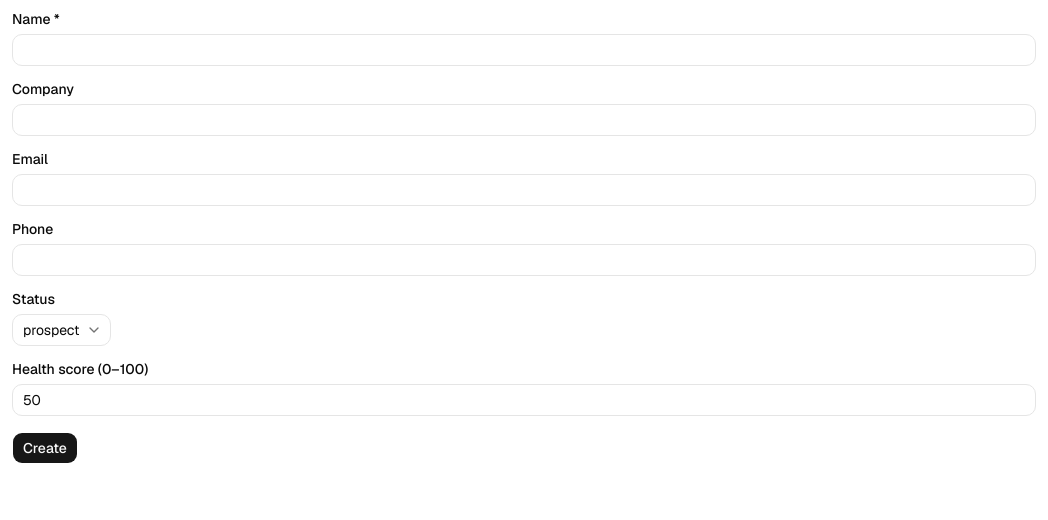
CustomerForm validation › rejects an invalid email
Type "Acme" into the field labelled "Name *". click: (524,50)
box: x1=12 y1=34 x2=1036 y2=66
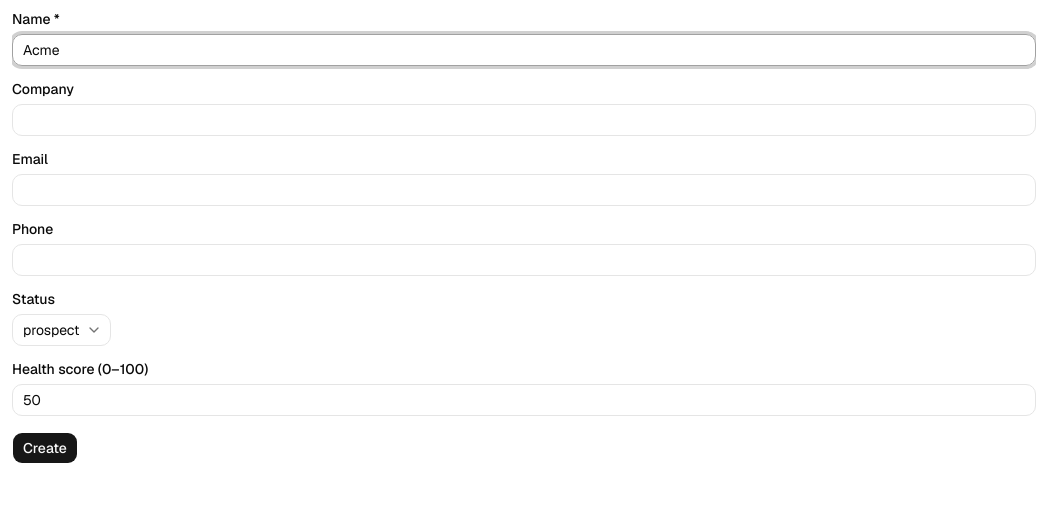
Type "not-an-email" into the field labelled "Email". click: (524,190)
box: x1=12 y1=174 x2=1036 y2=206
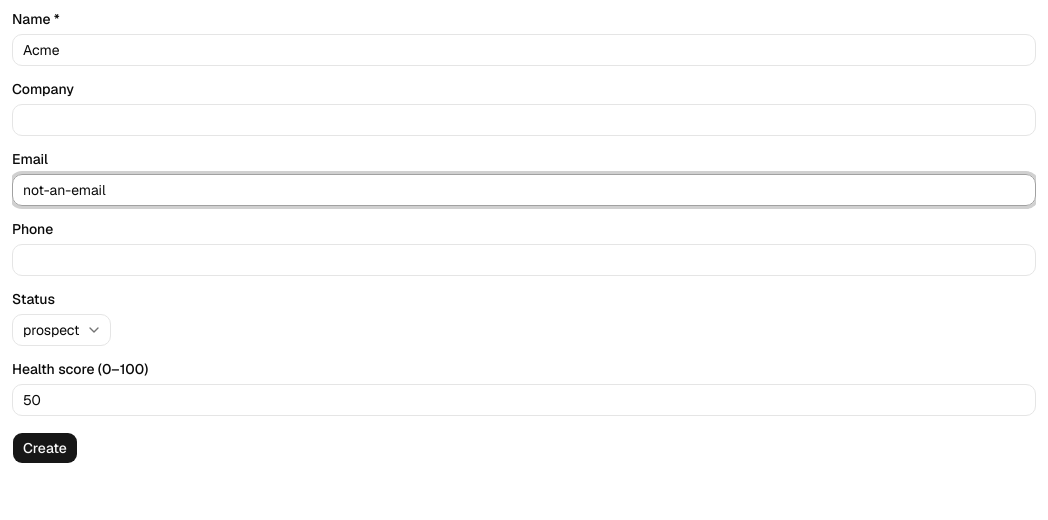
Click the button "Create". click: (45,448)
box: x1=12 y1=432 x2=78 y2=464
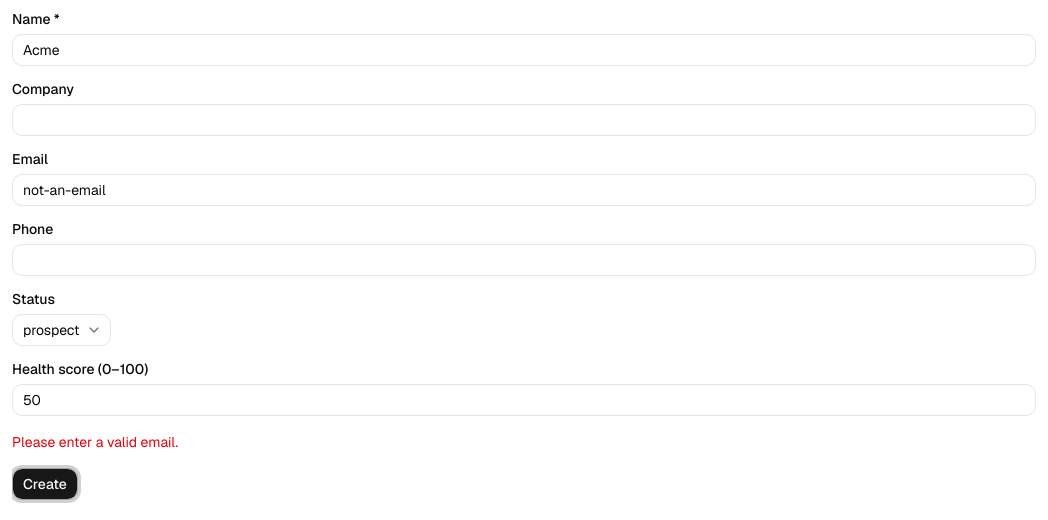
Expected: the text "Please enter a valid email." is shown, x1=12 y1=433 x2=178 y2=451
